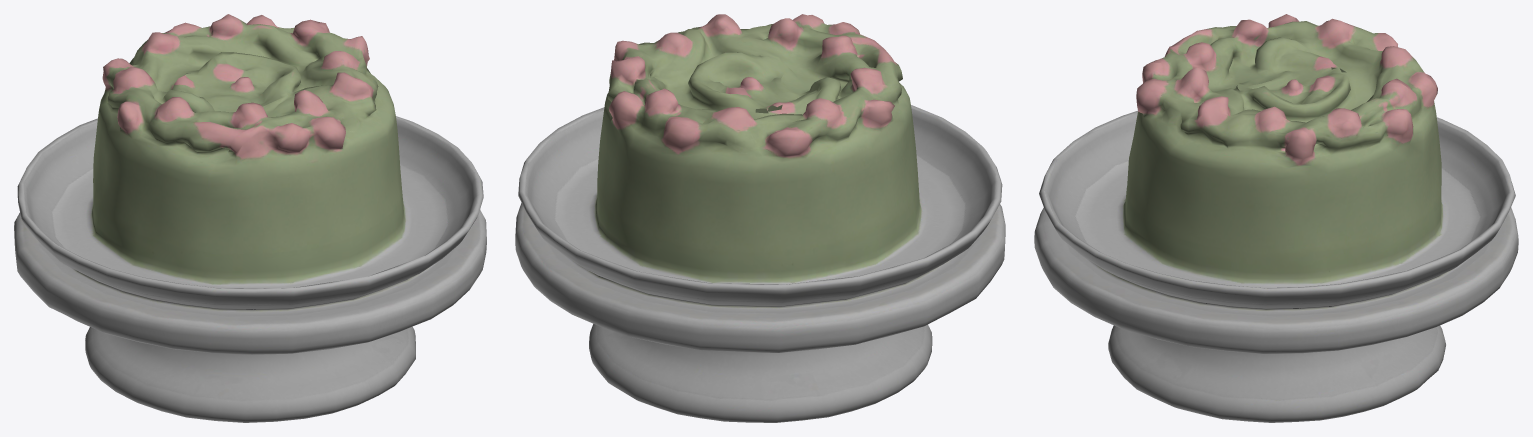
Rendered from matcha guava cake.glb.
The picture shows the model from 3 angles, left to right: view 1: azimuth 30°, elevation 25°; view 2: azimuth 150°, elevation 25°; view 3: azimuth 270°, elevation 25°; orthographic projection. The views are drawn at different scales.
Visible parts, largest first — view 1: tripo_node_2be0f433-bbc8-42cf-bbc3-04d1b427908a; view 2: tripo_node_2be0f433-bbc8-42cf-bbc3-04d1b427908a; view 3: tripo_node_2be0f433-bbc8-42cf-bbc3-04d1b427908a.
Boxes of the visible parts, <box> form: tripo_node_2be0f433-bbc8-42cf-bbc3-04d1b427908a: <box>14,14,486,422</box>; tripo_node_2be0f433-bbc8-42cf-bbc3-04d1b427908a: <box>515,14,1005,422</box>; tripo_node_2be0f433-bbc8-42cf-bbc3-04d1b427908a: <box>1034,14,1518,422</box>.
Size of the model in its own units: 0.9918 by 0.6703 by 0.9941.
Materials: 1 (1 with a texture image).
